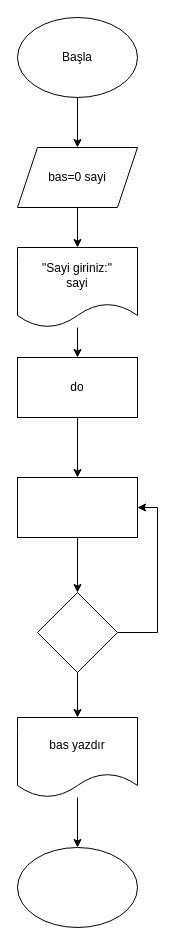
The diagram is 183 pixels wide and 945 high, and some of its shapes have lost their labels. The shapes that lost their labels are listed below. From the top down, each one's centre as x and y in pixels, then its label:
At pixel 77 507: "bas++ sayi=sayi/10".
At pixel 77 632: "while sayi>0".
At pixel 77 887: "Bitir".
